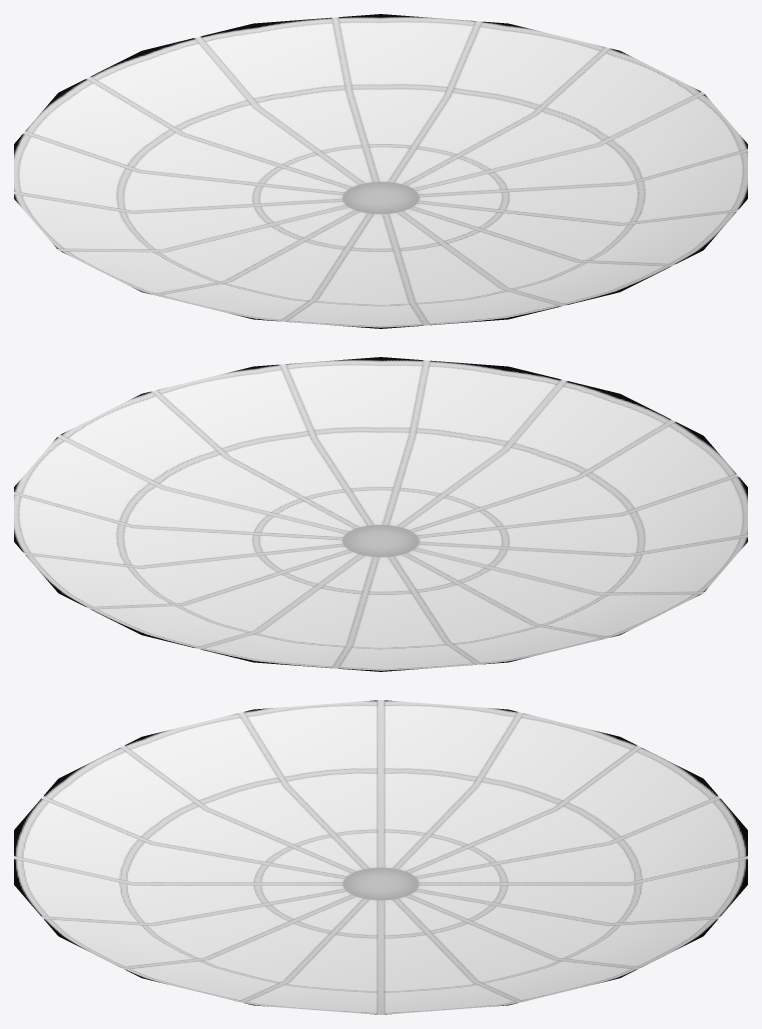
Rendered from fan_grill_back.obj.
3 views of the same model, one above another, from view 1: azimuth 30°, elevation 25°; view 2: azimuth 150°, elevation 25°; view 3: azimuth 270°, elevation 25° (orthographic).
Visible parts, largest first — view 1: mesh; view 2: mesh; view 3: mesh.
Part boxes in pixels (bbox=[...]): mesh: bbox=[14, 14, 747, 328]; mesh: bbox=[14, 357, 747, 671]; mesh: bbox=[14, 700, 747, 1014].
Bounding box in the file's own units: 1.97 × 0.0774 × 1.94.
1 material, 1 textured.
